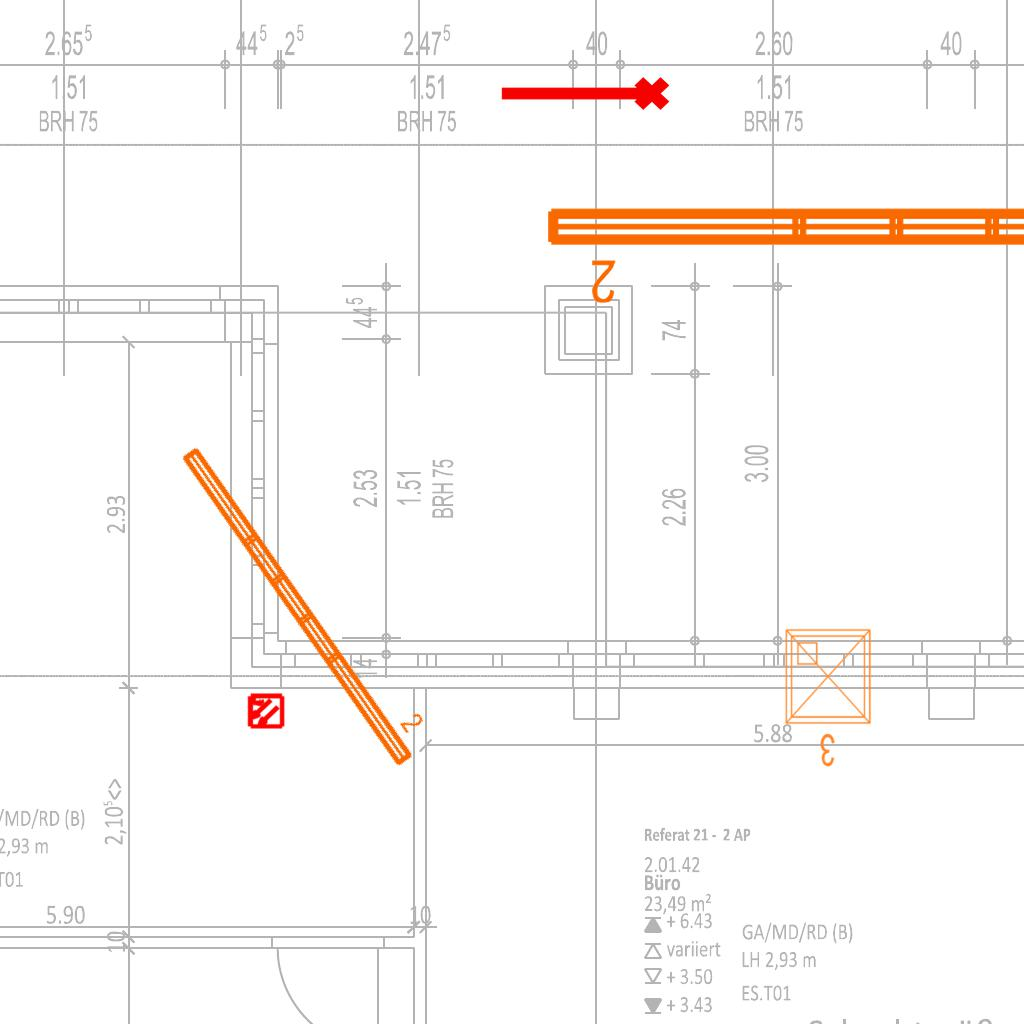ASR_Ansaugoeffnung: (496, 73, 672, 119)
Ambulanz_Pendelleuchte_LED: (173, 424, 442, 774), (539, 196, 1024, 308)
Einbaudownlights_LED_Konferenzraeume: (778, 622, 882, 772)
OT_Multisensormelder_(Kombination_RMO_WMD): (237, 683, 293, 739)
